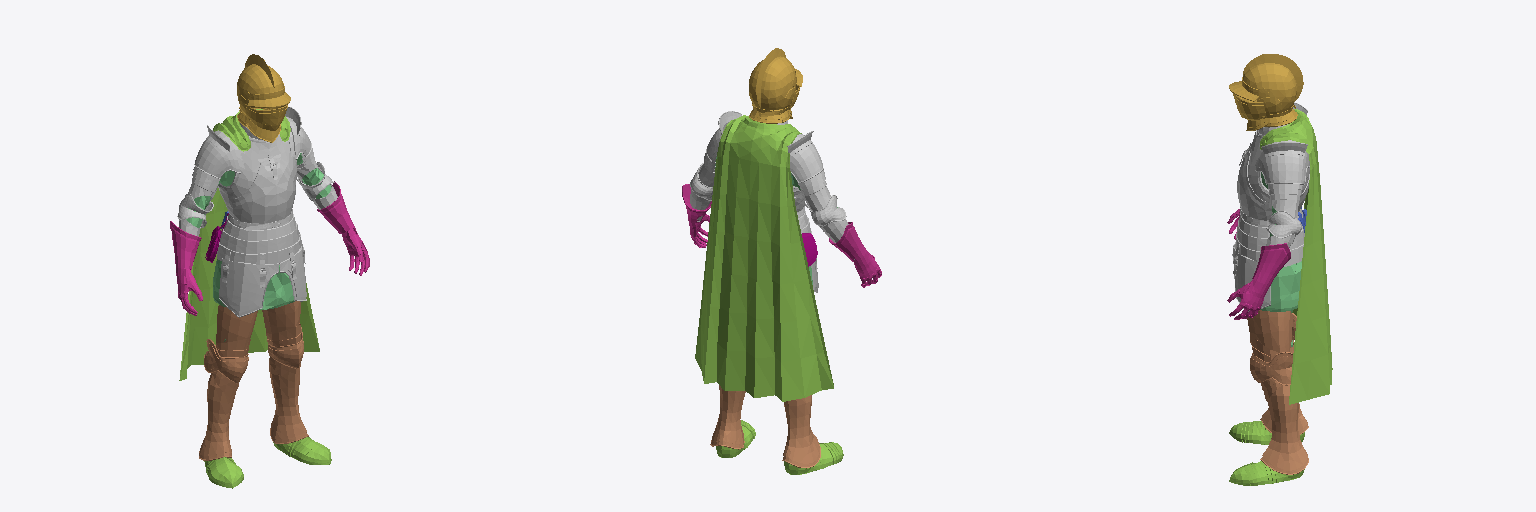
File: armatura_3.obj
3 renders of one model, left to right at view 1: azimuth 30°, elevation 25°; view 2: azimuth 150°, elevation 25°; view 3: azimuth 270°, elevation 25°, orthographic.
Visible parts, largest first — view 1: main, leg, cloak, arm, helm, hand, clothing, foot; view 2: cloak, arm, leg, helm, hand, foot, main; view 3: cloak, leg, main, helm, arm, hand, foot, clothing.
Part boxes in pixels (left/top/right/bottom): main: left=217, top=123, right=306, bottom=317; leg: left=199, top=301, right=308, bottom=460; cloak: left=179, top=109, right=319, bottom=380; arm: left=177, top=107, right=337, bottom=236; helm: left=237, top=54, right=290, bottom=142; hand: left=170, top=181, right=369, bottom=315; clothing: left=186, top=153, right=331, bottom=341; foot: left=204, top=437, right=331, bottom=488; cloak: left=695, top=115, right=833, bottom=401; arm: left=690, top=111, right=854, bottom=259; leg: left=710, top=385, right=820, bottom=468; helm: left=749, top=48, right=802, bottom=123; hand: left=682, top=184, right=881, bottom=287; foot: left=716, top=420, right=843, bottom=474; main: left=777, top=120, right=818, bottom=292; cloak: left=1260, top=109, right=1332, bottom=404; leg: left=1247, top=310, right=1308, bottom=474; main: left=1232, top=124, right=1309, bottom=311; helm: left=1229, top=54, right=1303, bottom=130; arm: left=1255, top=102, right=1309, bottom=247; hand: left=1227, top=209, right=1290, bottom=319; foot: left=1229, top=421, right=1304, bottom=485; clothing: left=1260, top=172, right=1301, bottom=346.
Size of the model in its own units: 6.63 by 13.75 by 3.24.